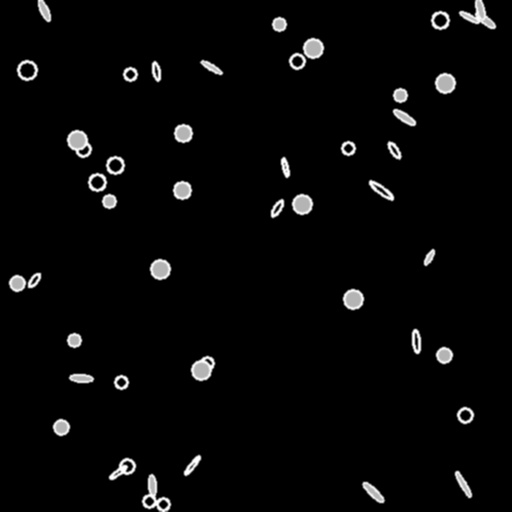pseudomonas: (368, 179, 394, 201), (454, 470, 472, 498), (362, 481, 384, 503), (392, 107, 416, 127), (474, 11, 496, 29), (183, 455, 201, 475), (200, 59, 222, 75), (36, 0, 52, 21), (386, 140, 402, 160), (269, 199, 285, 217), (26, 271, 42, 289), (109, 464, 127, 480), (459, 10, 479, 24), (474, 0, 486, 20), (280, 157, 290, 177), (151, 61, 161, 81), (423, 249, 435, 265), (69, 374, 93, 382), (412, 329, 420, 353), (148, 475, 156, 495)
synechocystis: (293, 195, 311, 213), (436, 74, 454, 92), (304, 39, 322, 57), (344, 290, 362, 308), (18, 61, 36, 79), (151, 260, 169, 278), (192, 361, 210, 379), (68, 131, 86, 149), (174, 182, 190, 198), (89, 174, 105, 190), (107, 157, 123, 173), (432, 12, 448, 28), (175, 125, 191, 141), (54, 420, 68, 434), (76, 142, 90, 156), (437, 348, 451, 362), (290, 54, 304, 68), (120, 459, 134, 473), (458, 408, 472, 422), (10, 276, 24, 290), (394, 89, 406, 101), (124, 68, 136, 80), (201, 357, 213, 369), (115, 376, 127, 388), (143, 495, 155, 507), (157, 498, 169, 510), (68, 334, 80, 346), (342, 142, 354, 154), (273, 18, 285, 30), (103, 195, 115, 207)
